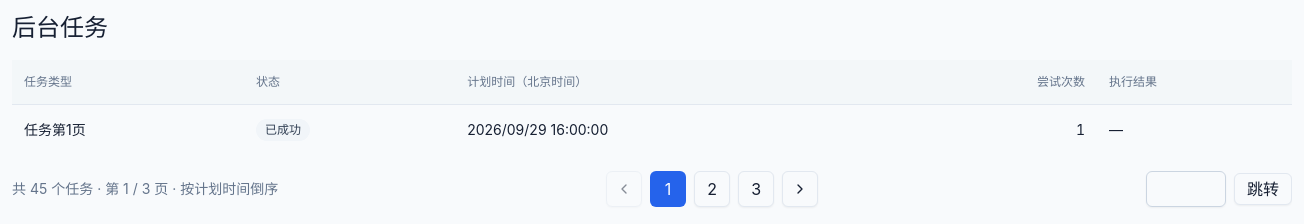
it: 后台任务向服务端翻页、跳页并展示总数
Expected: the text "任务第1页" is shown, [12,104,244,154]
Expected: the button named "上一页" is disabled, [606,170,642,206]
Step 1. Click the button named "下一页" → (800, 188), box [782,170,818,206]
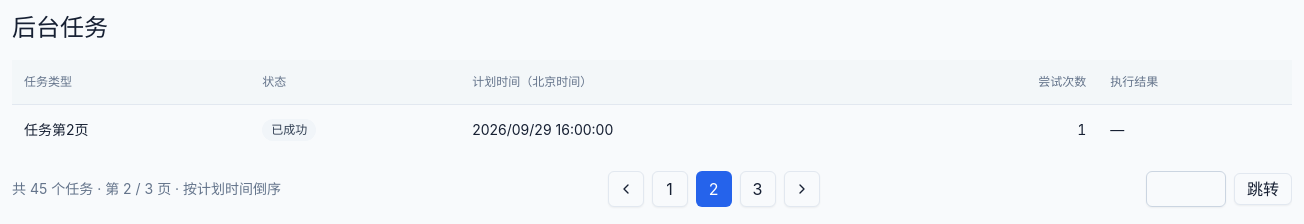
Now the text "任务第2页" is shown, box [12,104,250,154]
Step 2. Type "3" into the number field named "跳转页码" → (1186, 188), box [1146,170,1226,206]
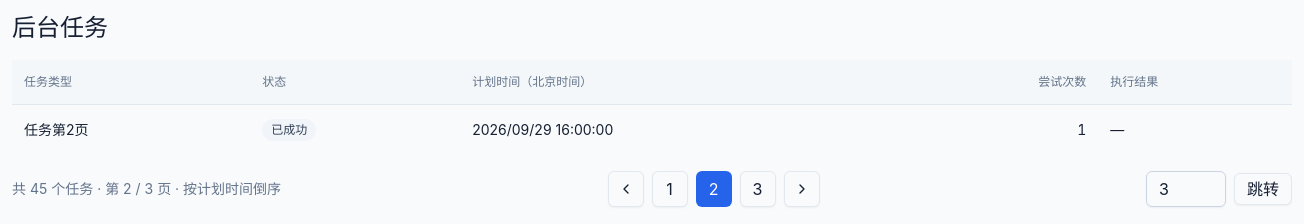
Step 3. Click the button "跳转" → (1263, 188), box [1234,172,1292,204]
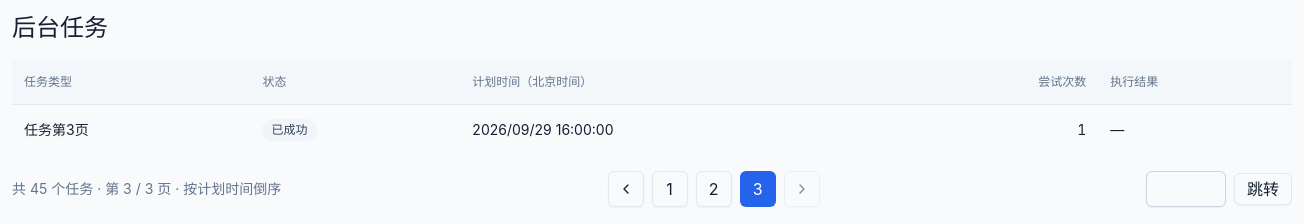
Expected: the button named "下一页" is disabled, [784,170,820,206]
Now the text "任务第3页" is shown, box [12,104,250,154]
Now the text "共 45 个任务 · 第 3 / 3 页 · 按计划时间倒序" is shown, box [12,178,281,198]
